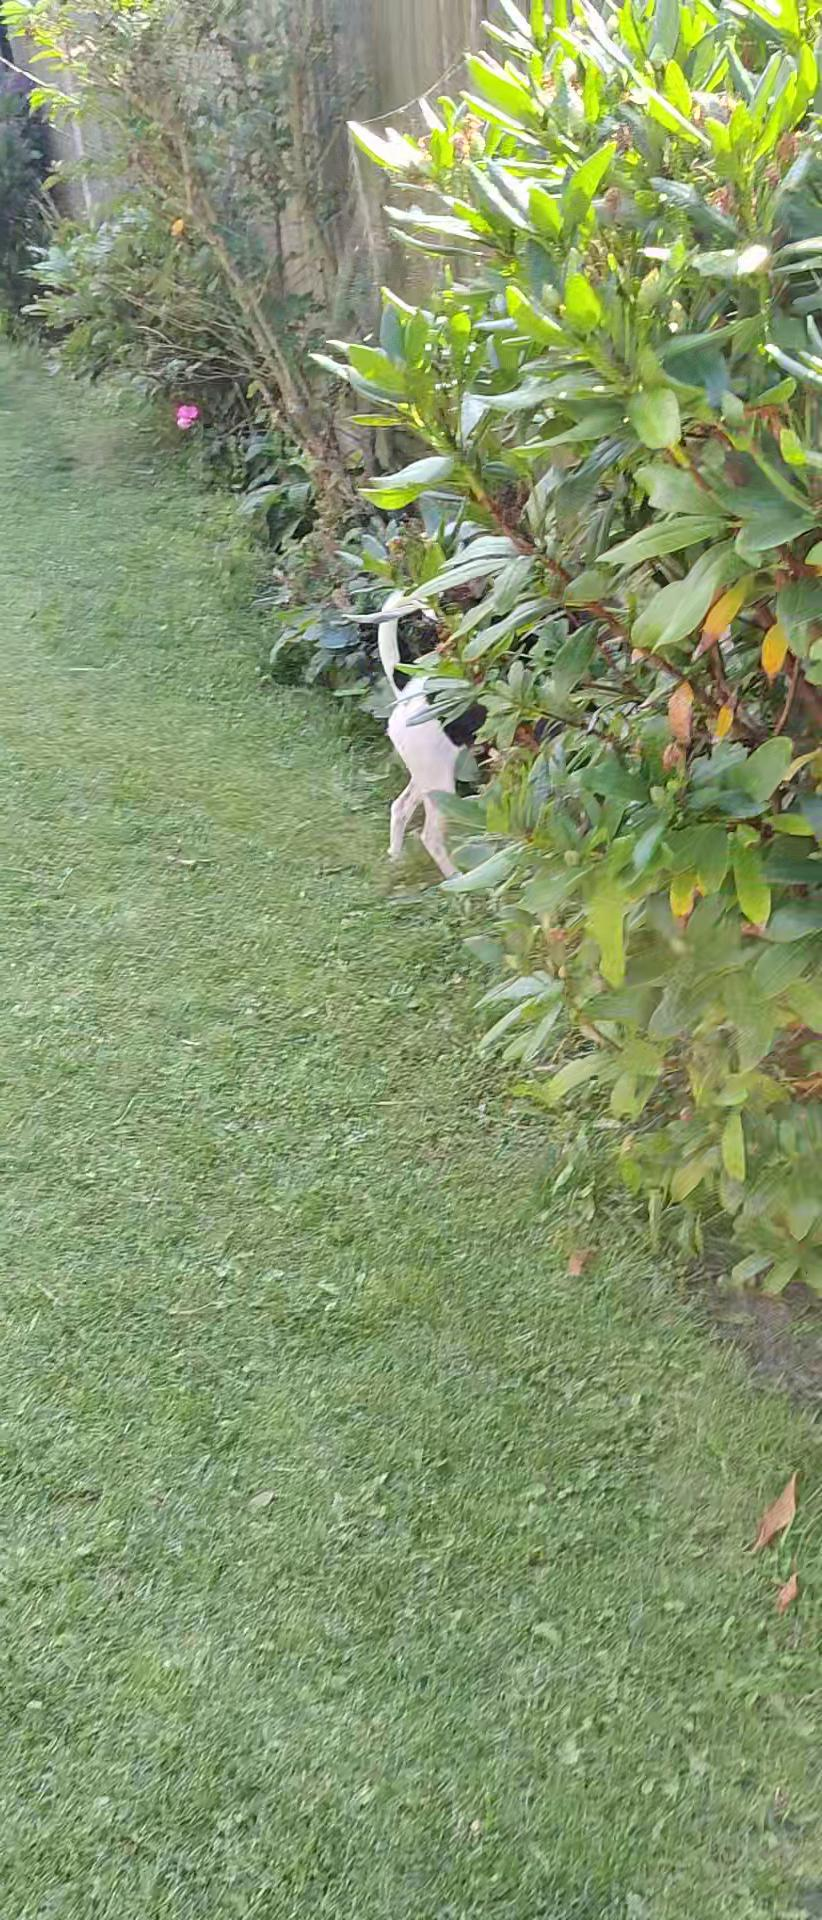Dog: (359, 576, 521, 894)
